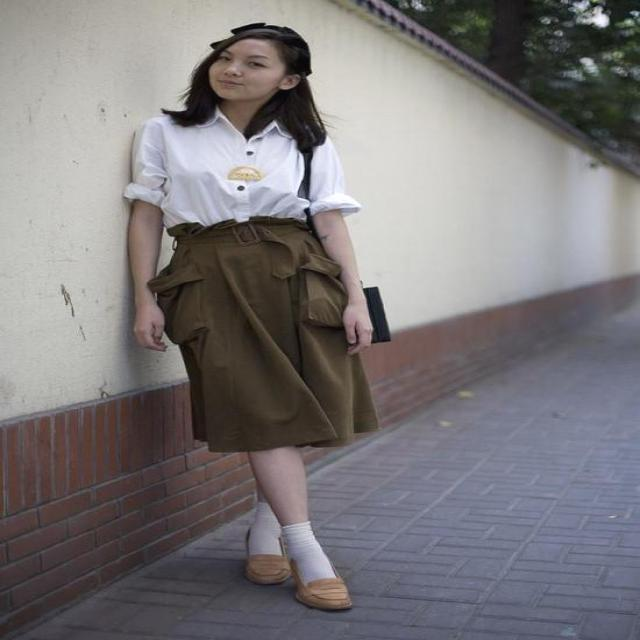shirt: (123, 102, 361, 227)
skirt: (146, 220, 380, 452)
